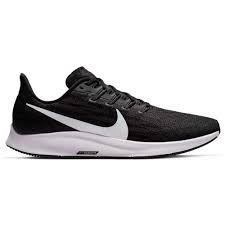nike: (23, 95, 138, 145)
